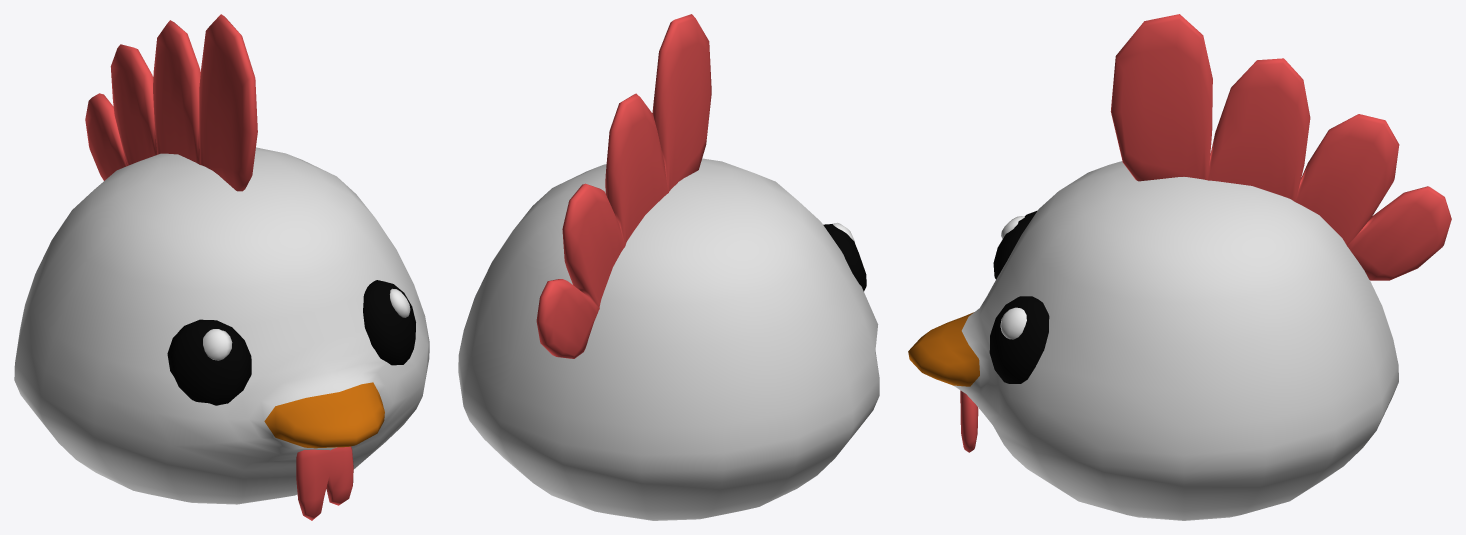
Rendered from chickenhead.fbx.
3 views of the same model, side by side, from view 1: azimuth 30°, elevation 25°; view 2: azimuth 150°, elevation 25°; view 3: azimuth 270°, elevation 25° (orthographic). The views are drawn at different scales.
Visible parts, largest first — view 1: chicken_head; view 2: chicken_head; view 3: chicken_head.
Part boxes in pixels (<box>): chicken_head: <box>14,14,429,520</box>; chicken_head: <box>458,14,879,520</box>; chicken_head: <box>908,14,1451,520</box>.
Size of the model in its own units: 57.37 by 69.37 by 72.57.
